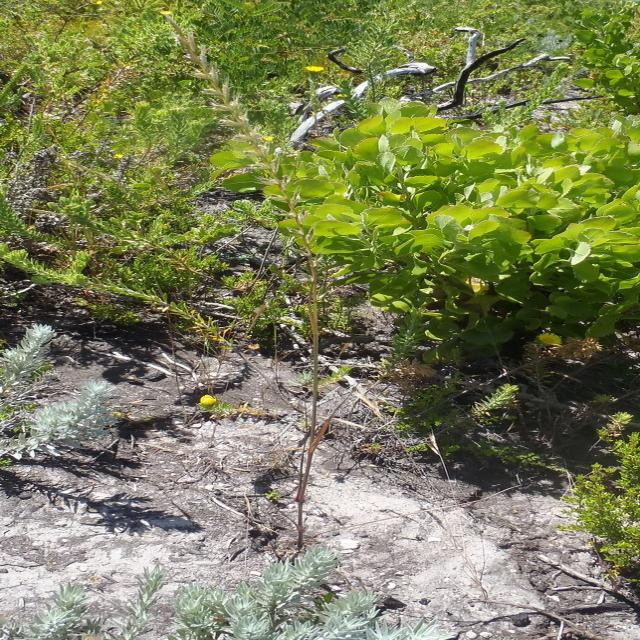Lolium: (191, 392, 222, 412)
ipomoea: (182, 388, 225, 424)
